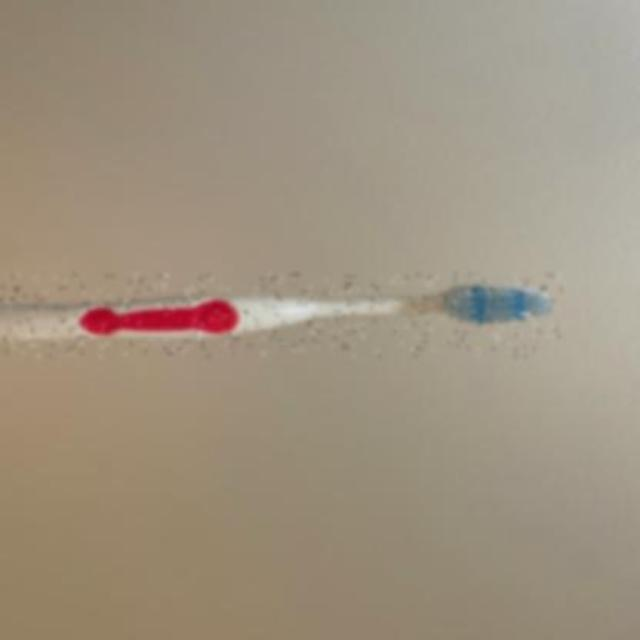toothbrush: (1, 274, 562, 356)
